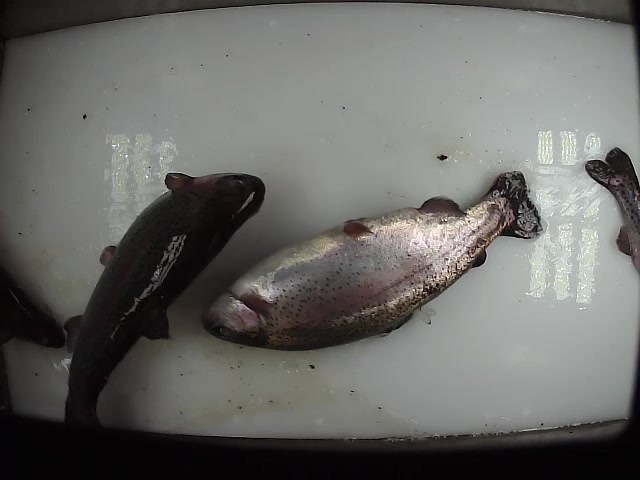fish: (200, 167, 545, 354), (64, 167, 268, 429)
